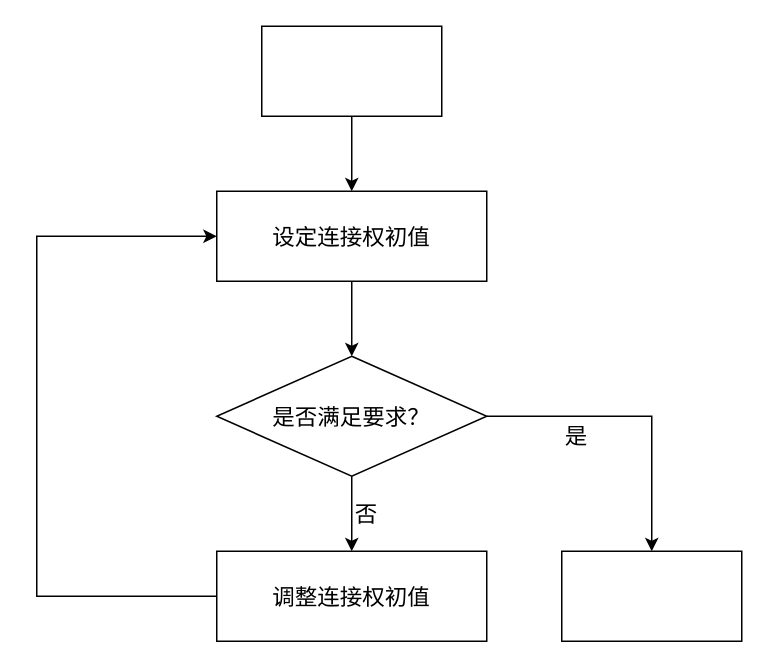
The diagram is 768 pixels wide and 668 high, and some of its shapes have lost their labels. Each missing label, with the centre of its shape:
开始: pixel 351 70
输出: pixel 651 595
